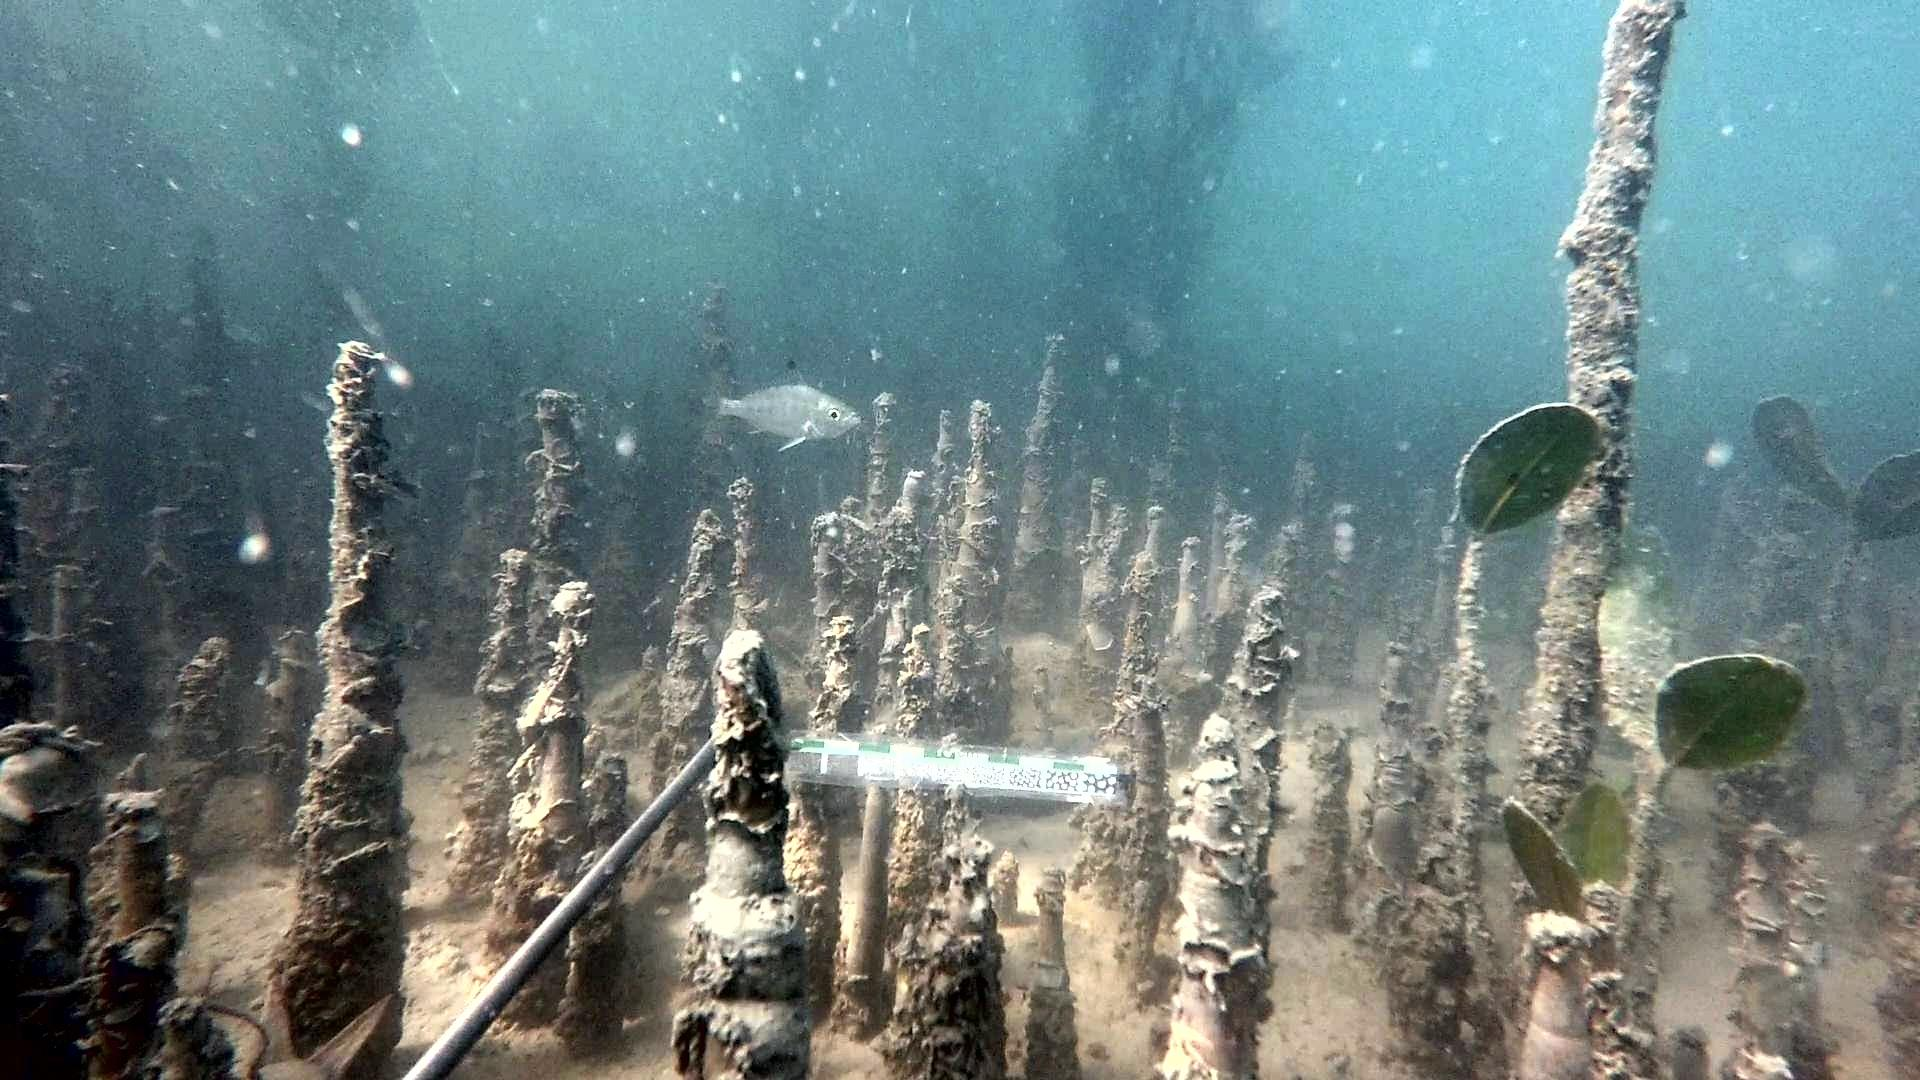gerres: (694, 358, 866, 455)
